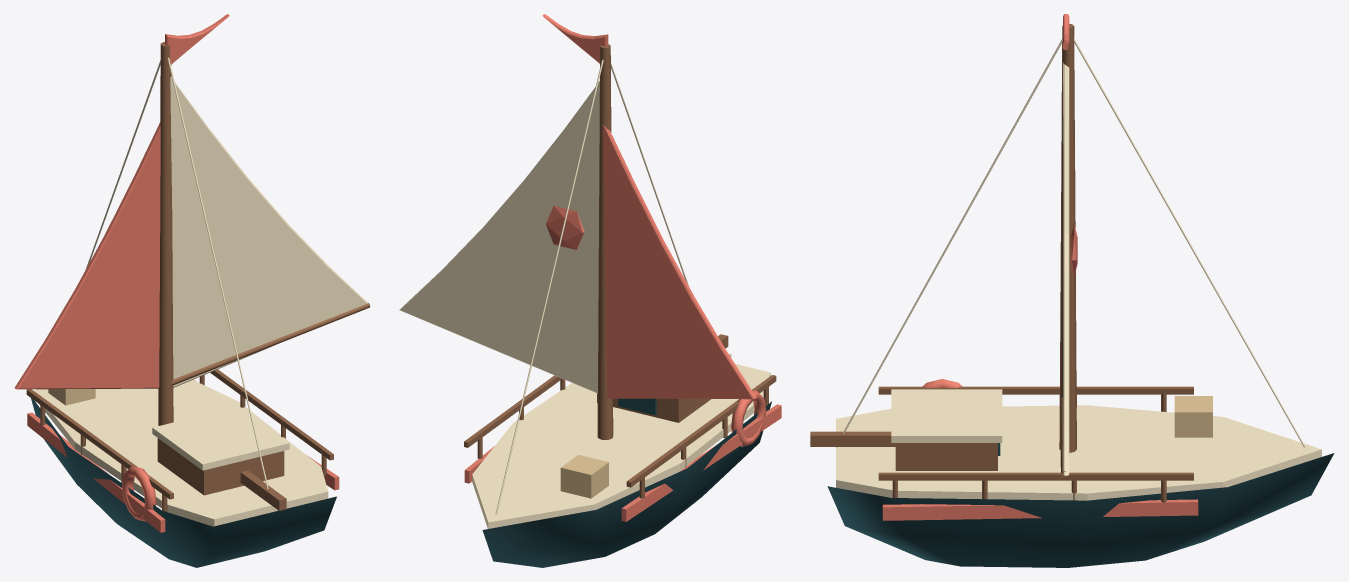
The model's file is vessel-swift.glb.
3 renders of one model, left to right at view 1: azimuth 30°, elevation 25°; view 2: azimuth 150°, elevation 25°; view 3: azimuth 270°, elevation 25°, orthographic. The views are drawn at different scales.
Visible parts, largest first — view 1: mainsail, jib, laid-deck, lapstrake-hull, cabin-roof, main-mast, cabin, gunwale (×2), painted-waterline, sail-boom, backstay, life-ring (+4 smaller); view 2: mainsail, jib, laid-deck, lapstrake-hull, main-mast, gunwale (×2), painted-waterline, supply-crate, sail-star, forestay, cabin, life-ring (+3 smaller); view 3: laid-deck, lapstrake-hull, cabin-roof, gunwale (×2), main-mast, painted-waterline, cabin, mainsail, supply-crate, rudder-tiller, forestay, backstay.
Part boxes in pixels (x1,y1,x2,y2): mainsail: (170,77,370,387); jib: (14,122,160,389); laid-deck: (35,380,328,526); lapstrake-hull: (31,398,336,567); cabin-roof: (152,406,289,470); main-mast: (158,42,173,425); cabin: (157,438,284,495); gunwale (×2): (26,369,333,499); painted-waterline: (27,412,165,532); sail-boom: (170,303,370,385); backstay: (167,57,268,488); life-ring: (122,465,156,521); mainsail: (399,81,599,393); jib: (603,125,756,399); laid-deck: (472,364,770,528); lapstrake-hull: (482,401,771,567); main-mast: (597,44,613,439); gunwale (×2): (464,375,776,487); painted-waterline: (621,404,781,521); supply-crate: (560,454,608,498); sail-star: (546,205,584,249); forestay: (495,59,603,514); cabin: (597,393,710,422); life-ring: (731,390,766,446); laid-deck: (836,405,1321,500); lapstrake-hull: (827,453,1334,567); cabin-roof: (891,389,1002,442); gunwale (×2): (878,386,1193,480); main-mast: (1059,23,1076,452); painted-waterline: (882,499,1198,520); cabin: (895,443,997,470); mainsail: (1063,62,1069,475); supply-crate: (1174,396,1212,437); rudder-tiller: (810,431,895,446); forestay: (1074,39,1305,447); backstay: (836,39,1062,447).
Bounding box in the file's own units: 10.51 × 13.78 × 12.3.
